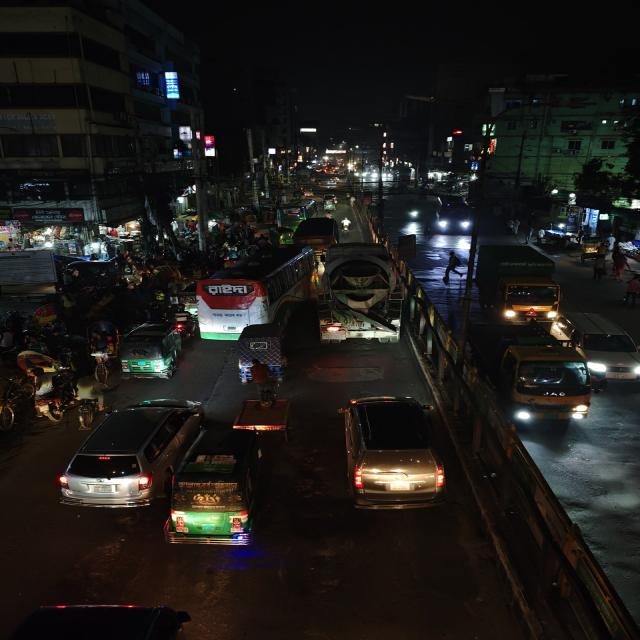bus: (191, 244, 319, 341), (429, 194, 472, 236), (277, 201, 311, 227)
car: (54, 396, 202, 509), (333, 391, 448, 515), (556, 309, 640, 385), (290, 216, 340, 246)
cng: (165, 429, 276, 551), (116, 324, 185, 381), (321, 196, 339, 212)
motorcycle: (21, 368, 72, 422), (401, 197, 424, 225), (340, 216, 354, 234)
pedestrian: (74, 398, 101, 430), (444, 251, 466, 283)
pickup_van: (461, 322, 595, 428)
rickshaw: (232, 322, 293, 382), (232, 394, 297, 437), (20, 370, 73, 422), (83, 318, 121, 387), (13, 347, 71, 377), (0, 372, 21, 444)
truck: (320, 244, 407, 344), (469, 240, 564, 324)
